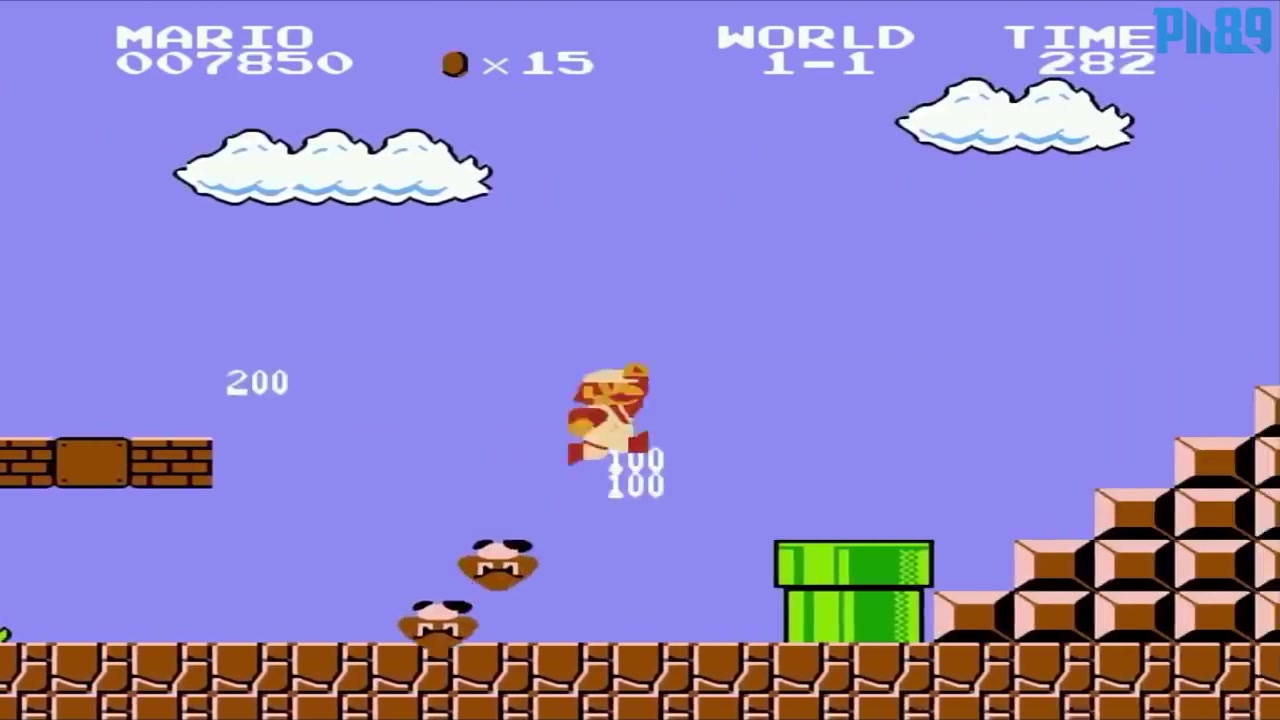mario: (547, 361, 668, 474)
